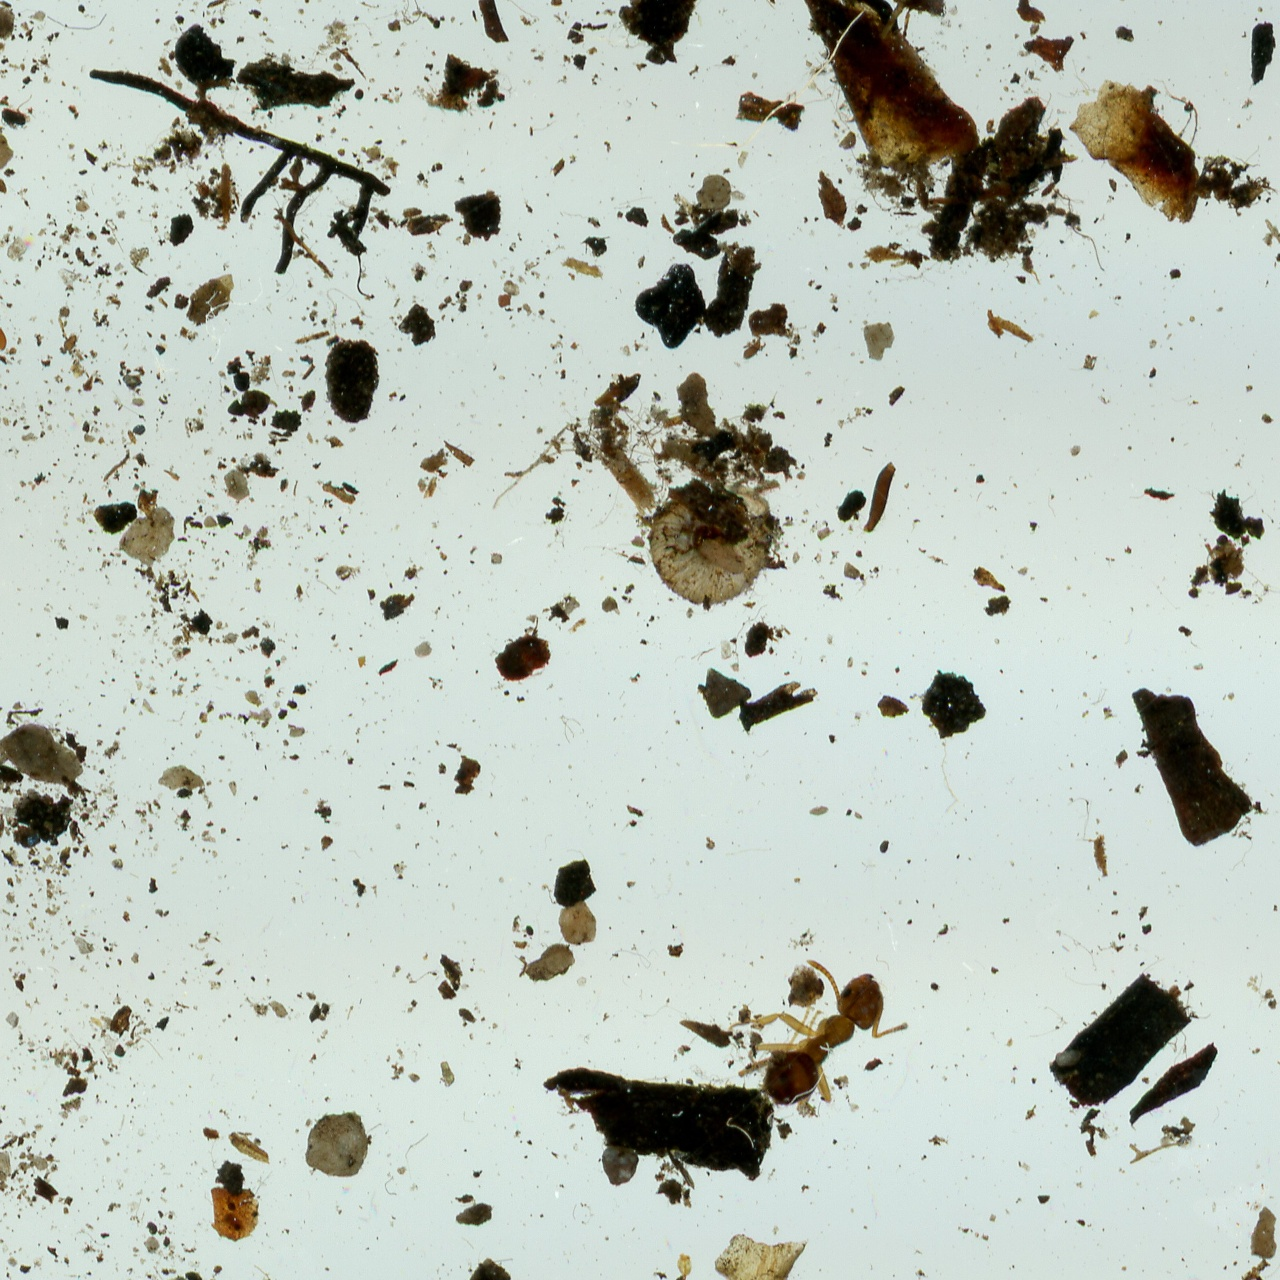arthropod: (703, 921, 926, 1148), (0, 315, 8, 354)
